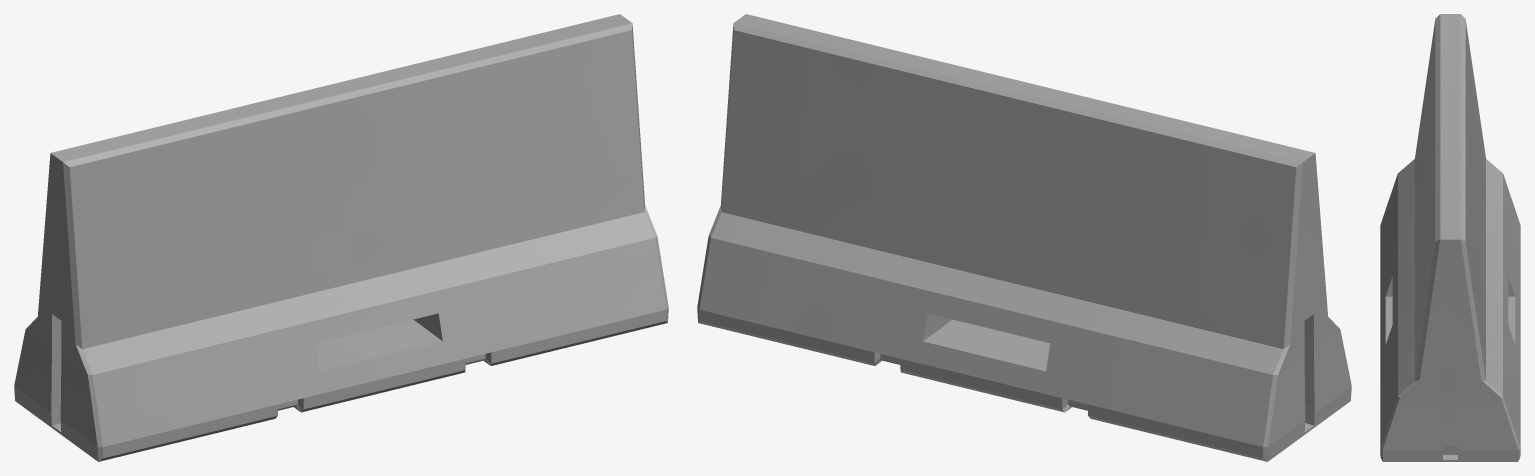
File: road_barier_2a.dae
3 views of the same model, side by side, from view 1: azimuth 30°, elevation 25°; view 2: azimuth 150°, elevation 25°; view 3: azimuth 270°, elevation 25° (orthographic). The views are drawn at different scales.
Parts seen in each view (by area): view 1: road_barier_2a; view 2: road_barier_2a; view 3: road_barier_2a.
Boxes of the visible parts, <box> form: road_barier_2a: <box>14,14,668,461</box>; road_barier_2a: <box>697,14,1351,461</box>; road_barier_2a: <box>1380,14,1520,461</box>.
Bounding box in the file's own units: 3.27 × 0.8571 × 1.5.
Materials: 1 (1 with a texture image).
